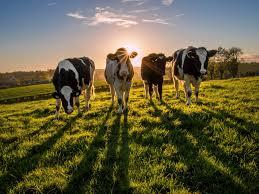cow: (51, 58, 95, 118), (172, 47, 217, 104), (105, 48, 137, 113), (141, 54, 172, 100)
